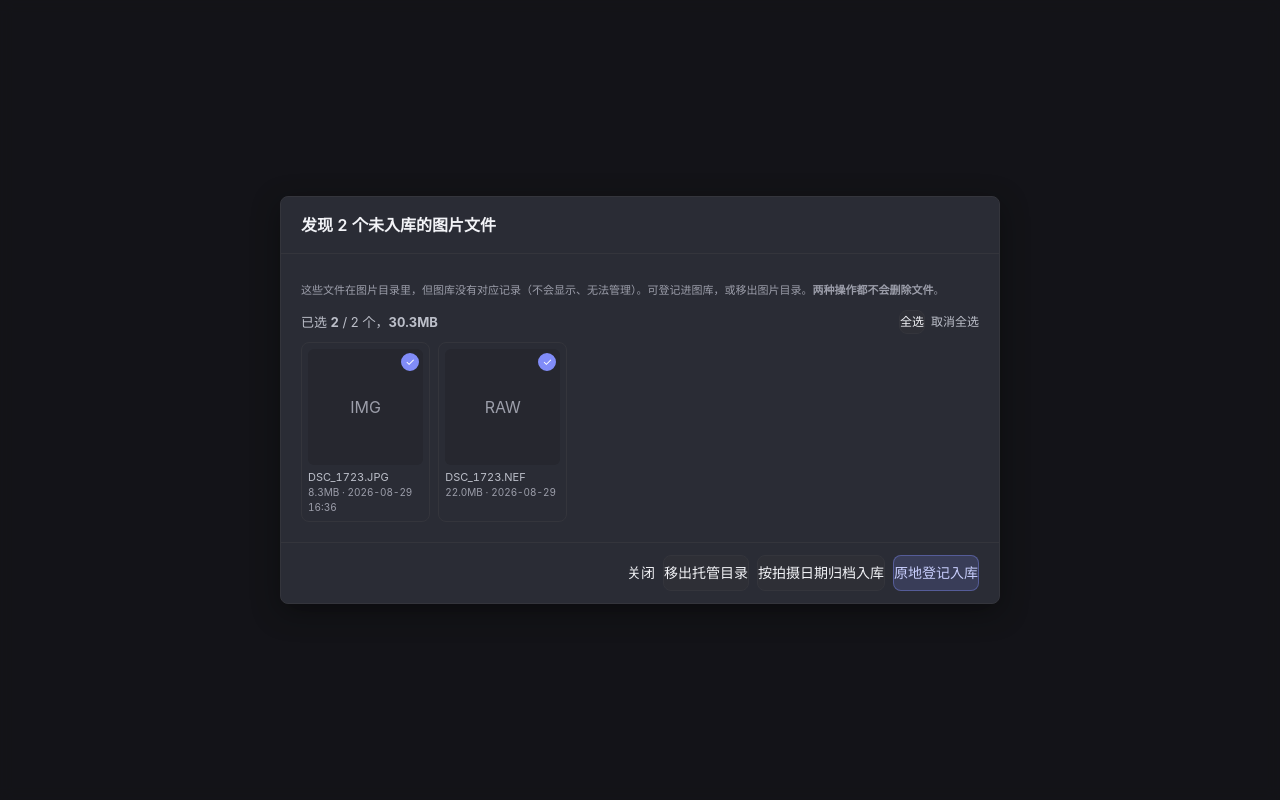
Test: OrphanFilesPanel › 部分失败：仍回调成功数并提示失败条数（文件不会被删除）
The width and height of the screenshot is (1280, 800).
What coordinates should you click on to do the following:
click the button "原地登记入库"
I would click on:
 (936, 573)
Its box is [893,555,979,591].
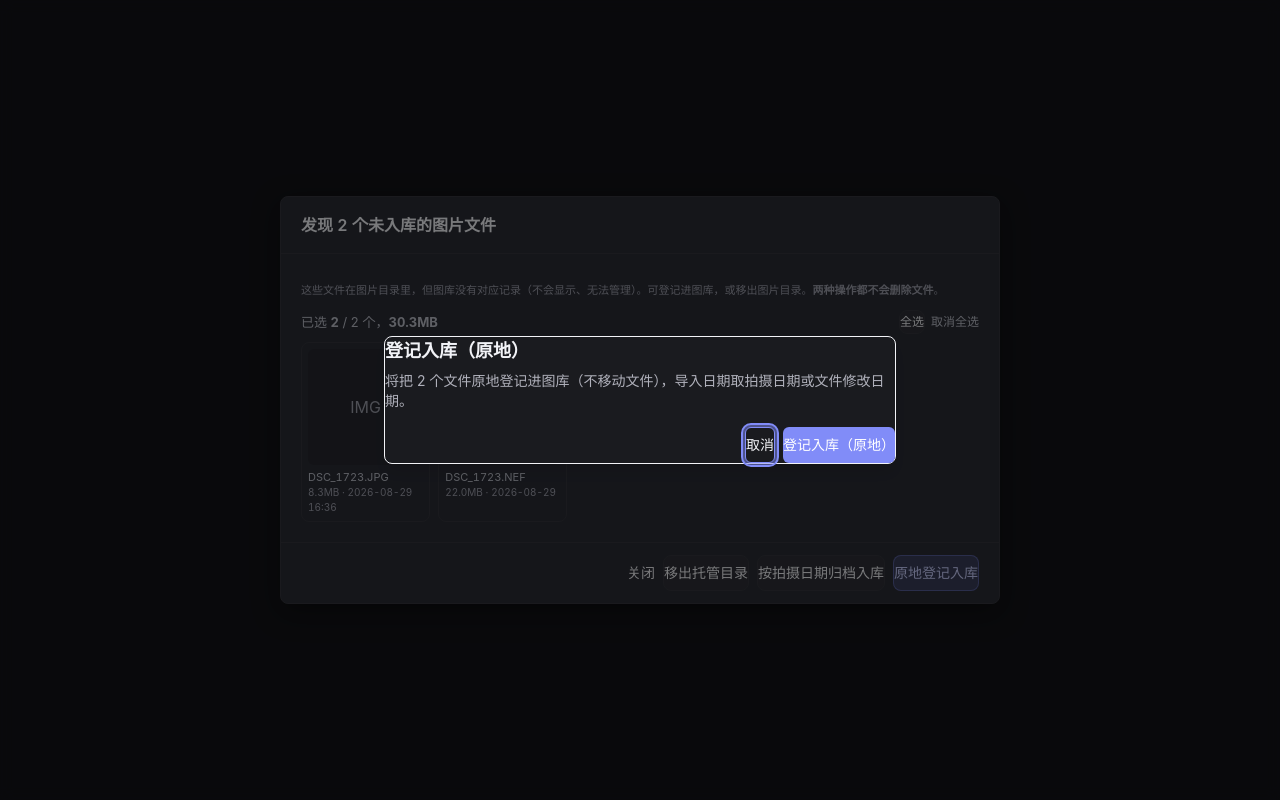
What coordinates should you click on to do the following:
click the button "登记入库（原地）"
I would click on:
 (839, 445)
Its box is [783,427,895,463].
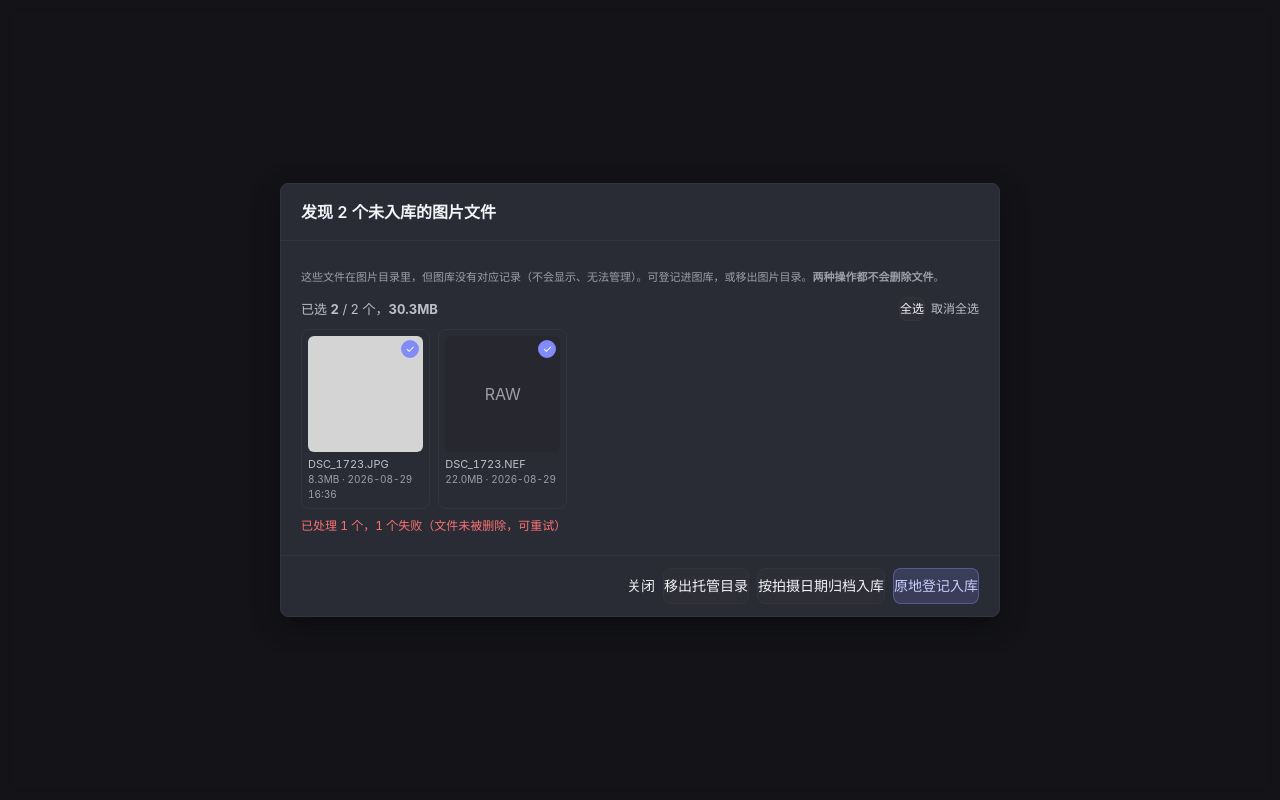
Expected: the text "已处理 1 个，1 个失败（文件未被删除，可重试）" is shown, [301,518,566,533]
